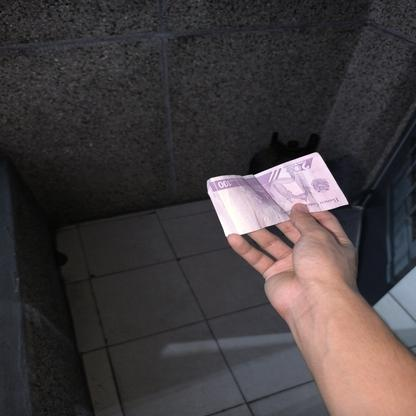one_hundred-back-vef: (206, 150, 350, 238)
